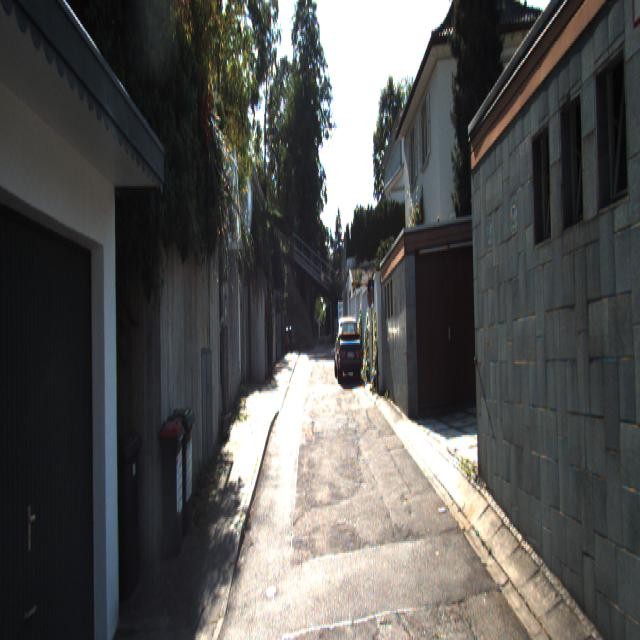Car: (334, 314, 363, 386)
